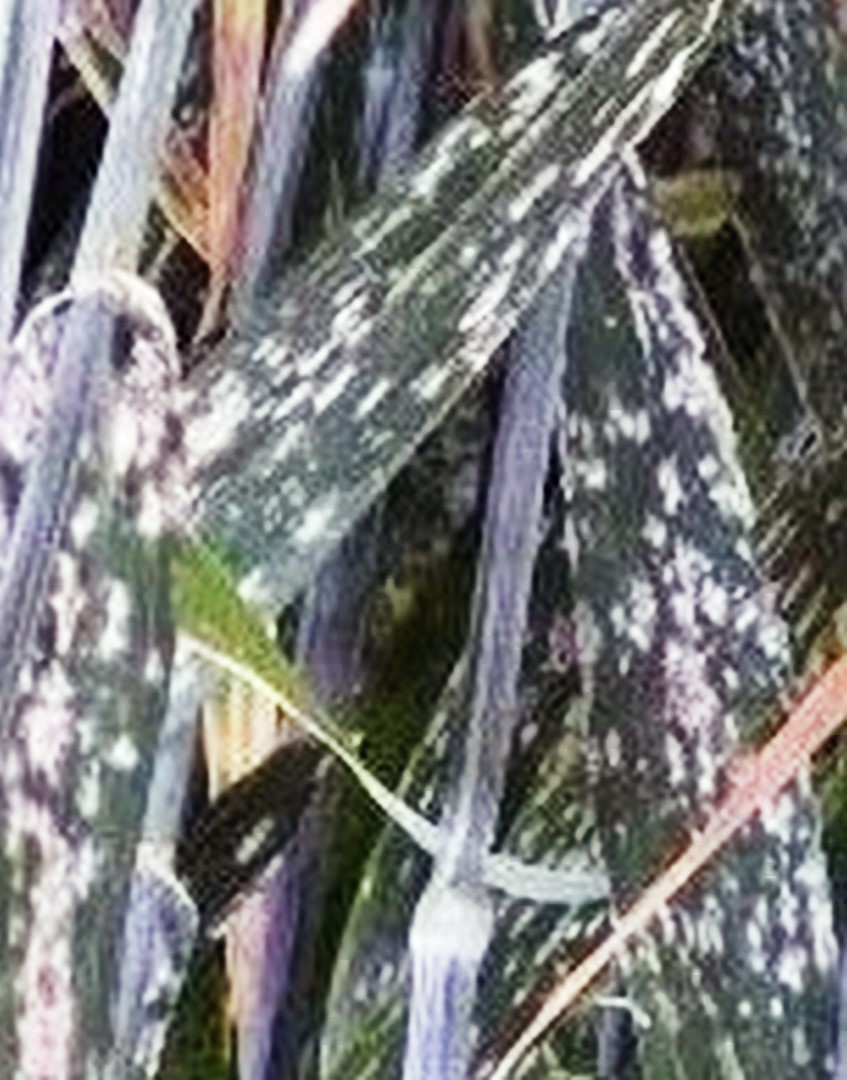Powdery Mildew: (570, 340, 834, 1024)
